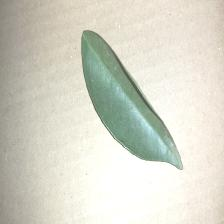healthy: (81, 28, 185, 172)
